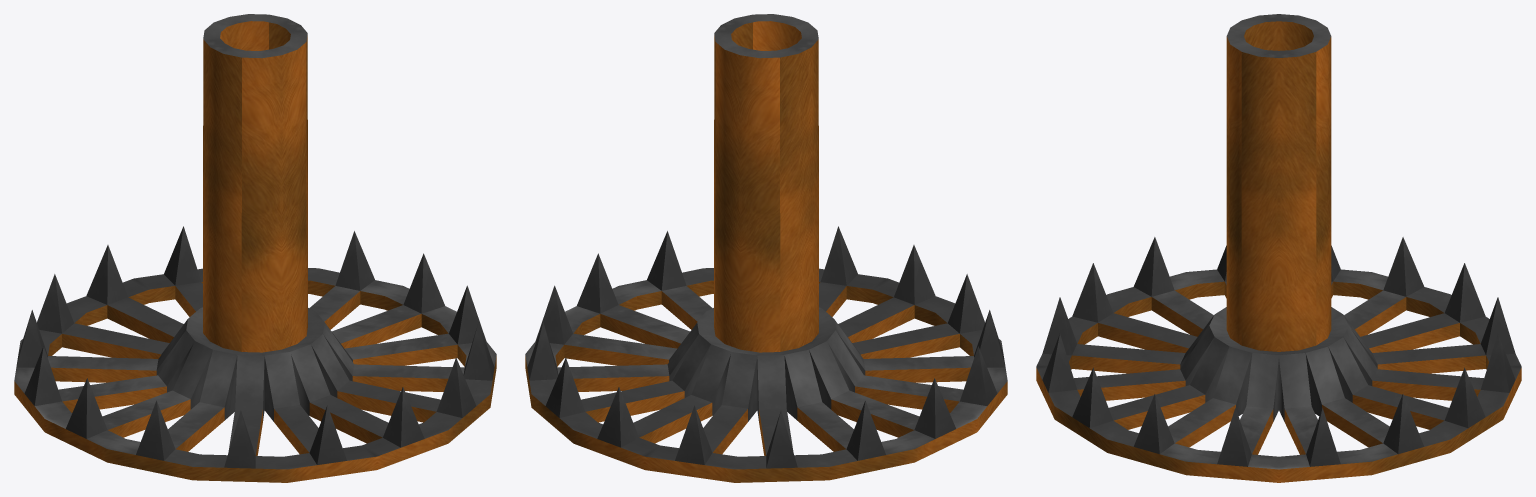
Rendered from chandelier.FBX.
3 views of the same model, side by side, from view 1: azimuth 30°, elevation 25°; view 2: azimuth 150°, elevation 25°; view 3: azimuth 270°, elevation 25° (orthographic).
Parts seen in each view (by area): view 1: Tube001; view 2: Tube001; view 3: Tube001.
Part boxes in pixels (<box>): Tube001: <box>14,14,496,482</box>; Tube001: <box>525,14,1007,482</box>; Tube001: <box>1036,14,1521,482</box>.
Bounding box in the file's own units: 80 × 62.57 × 80.
